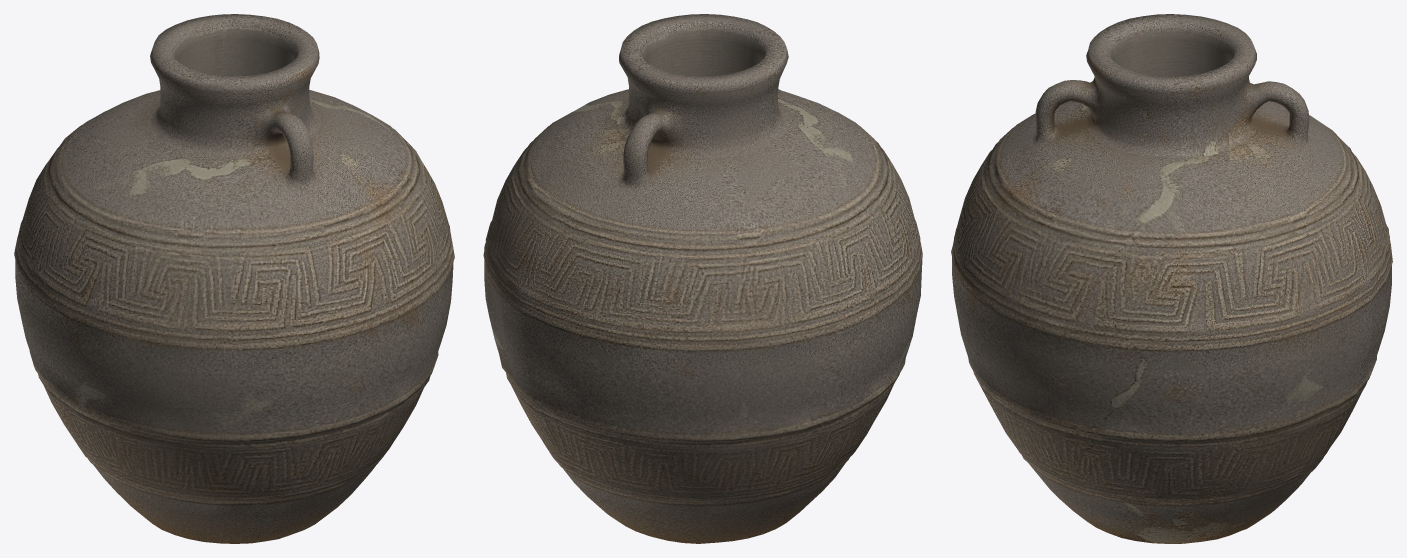
The model's file is tripo_convert_a3caf669-1df7-44b0-baa6-c26fcc6f0426.fbx.
The picture shows the model from 3 angles, left to right: view 1: azimuth 30°, elevation 25°; view 2: azimuth 150°, elevation 25°; view 3: azimuth 270°, elevation 25°; orthographic projection.
Parts seen in each view (by area): view 1: tripo_node_a3caf669; view 2: tripo_node_a3caf669; view 3: tripo_node_a3caf669.
Part boxes in pixels (box(x1,y1,x2,y2)): tripo_node_a3caf669: box(14, 14, 454, 543); tripo_node_a3caf669: box(483, 14, 922, 543); tripo_node_a3caf669: box(951, 14, 1392, 543).
Bounding box in the file's own units: 0.8652 × 0.998 × 0.8691.
1 material, 1 textured.
